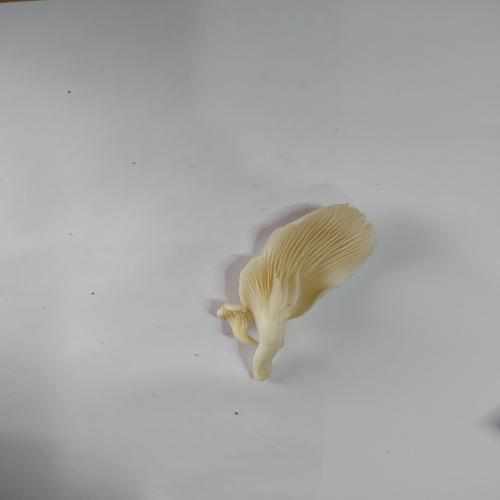Oyster Mushroom: (215, 202, 377, 381)
